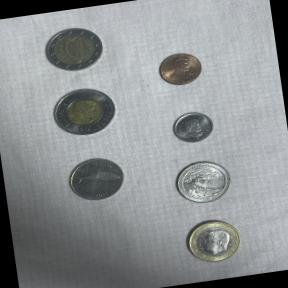coin: (42, 77, 129, 145), (36, 18, 114, 82), (59, 148, 132, 209), (166, 153, 238, 211), (179, 212, 250, 270), (152, 44, 212, 94), (163, 104, 220, 150)
